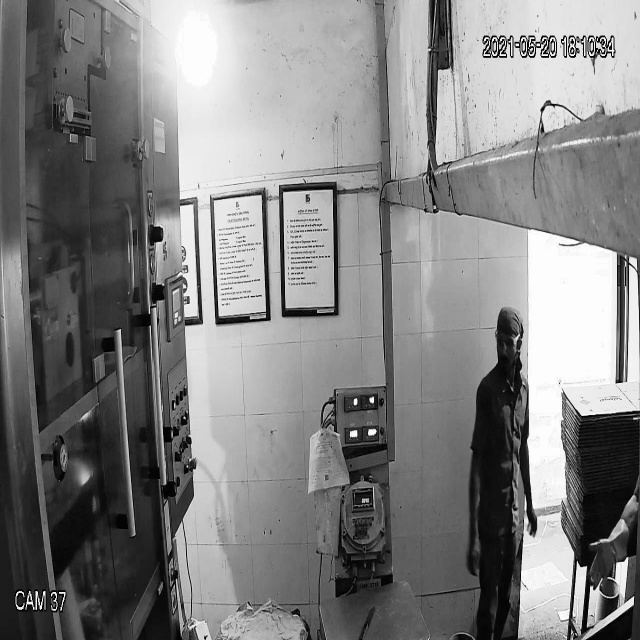Gafas: (494, 332, 522, 354)
